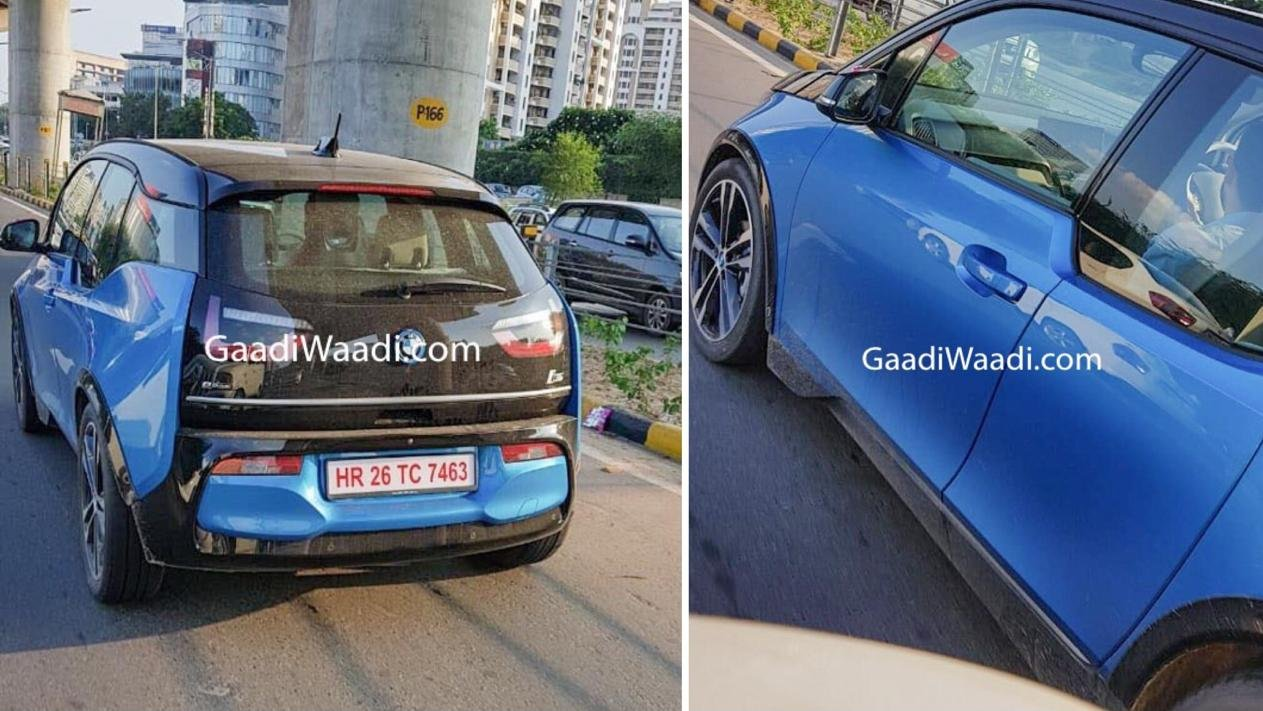number_plate: (320, 449, 478, 495)
